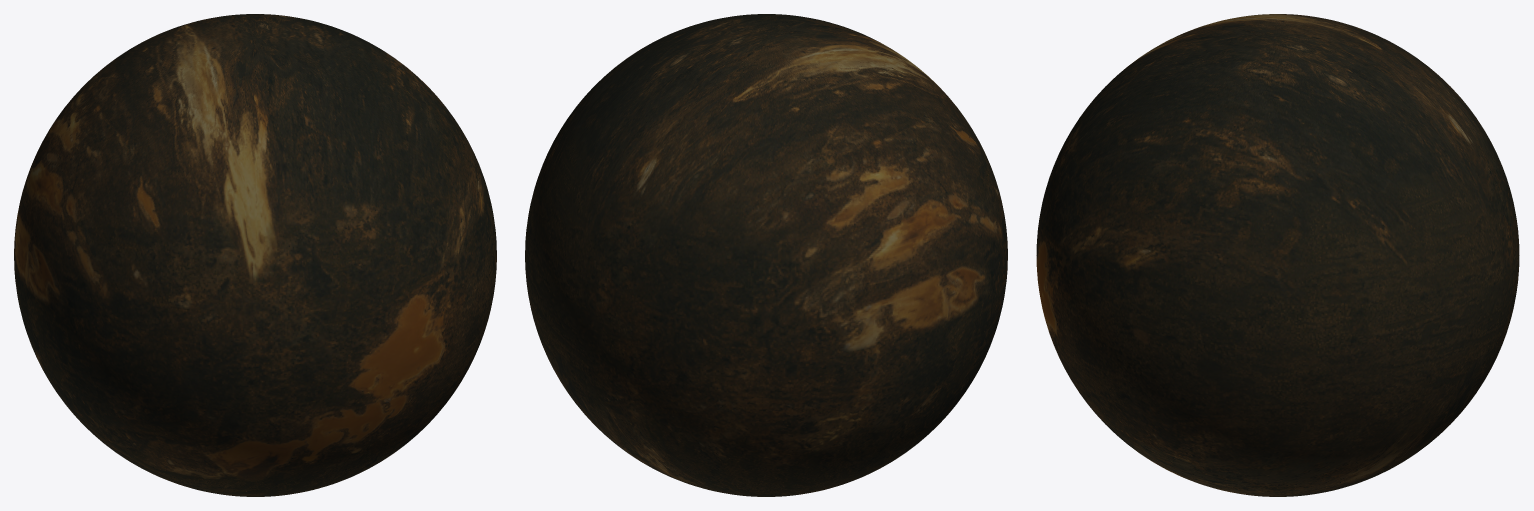
The model's file is planet_beta_hydri___free_sample.glb.
3 renders of one model, left to right at view 1: azimuth 30°, elevation 25°; view 2: azimuth 150°, elevation 25°; view 3: azimuth 270°, elevation 25°, orthographic.
Visible parts, largest first — view 1: Object_2; view 2: Object_2; view 3: Object_2.
Boxes of the visible parts, x1,y1,x2,y2 form: Object_2: (14, 14, 496, 496); Object_2: (525, 14, 1007, 496); Object_2: (1036, 14, 1519, 496).
Bounding box in the file's own units: 2 × 2 × 2.
1 material, 1 textured.
